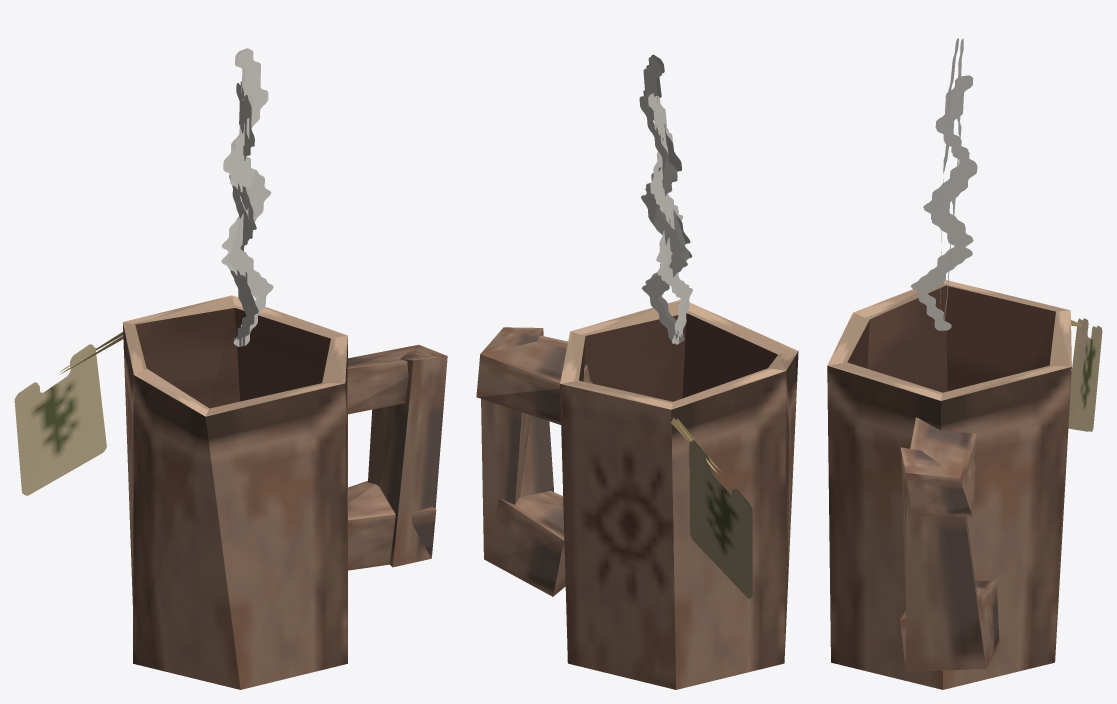
Rendered from SM_Mug.fbx.
The picture shows the model from 3 angles, left to right: view 1: azimuth 30°, elevation 25°; view 2: azimuth 150°, elevation 25°; view 3: azimuth 270°, elevation 25°; orthographic projection. The views are drawn at different scales.
Visible parts, largest first — view 1: Mug_Visual, Mug_Tag, Mug_Steam; view 2: Mug_Visual, Mug_Steam, Mug_Tag; view 3: Mug_Visual, Mug_Steam, Mug_Tag.
Part boxes in pixels (box(x1,y1,x2,y2)): Mug_Visual: box(123, 295, 447, 689); Mug_Tag: box(14, 332, 123, 495); Mug_Steam: box(221, 48, 273, 346); Mug_Visual: box(476, 299, 798, 689); Mug_Steam: box(639, 54, 692, 344); Mug_Tag: box(670, 417, 752, 598); Mug_Visual: box(827, 280, 1071, 689); Mug_Steam: box(910, 38, 977, 331); Mug_Tag: box(1068, 318, 1102, 431).
Bounding box in the file's own units: 0.1579 × 0.2689 × 0.1065.
